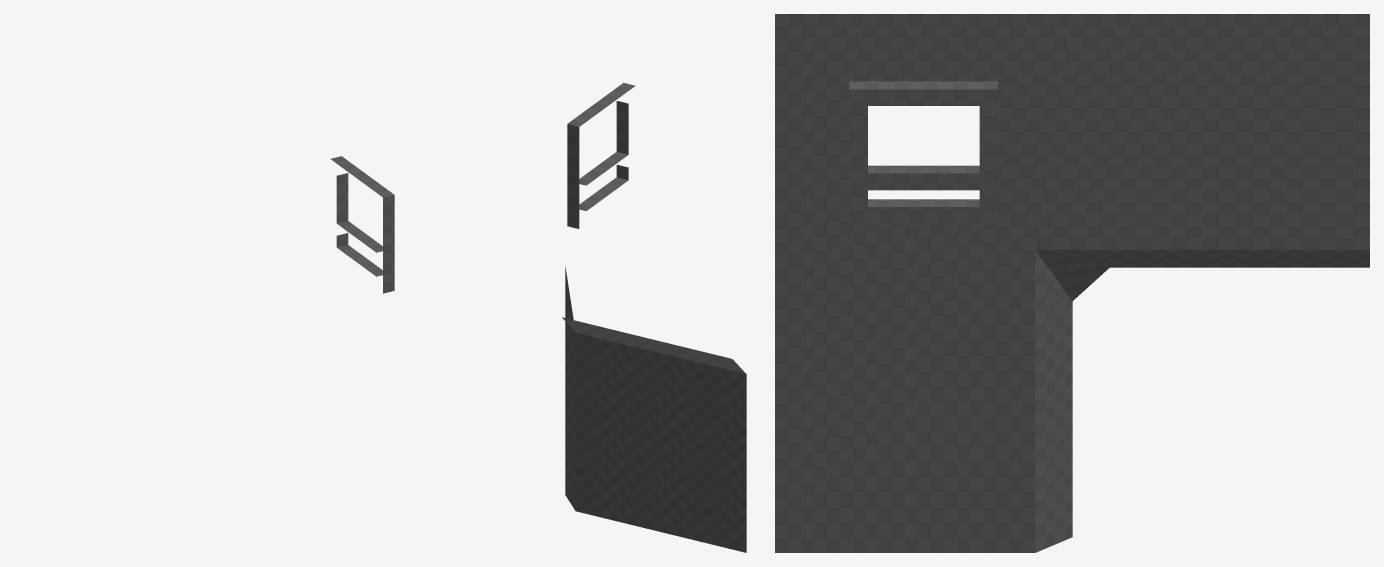
3 renders of one model, left to right at view 1: azimuth 30°, elevation 25°; view 2: azimuth 150°, elevation 25°; view 3: azimuth 270°, elevation 25°, orthographic. The views are drawn at different scales.
Parts seen in each view (by area): view 1: CubeDownBackRight4V1; view 2: CubeDownBackRight4V1; view 3: CubeDownBackRight4V1.
Boxes of the visible parts, <box> form: CubeDownBackRight4V1: <box>330,156,394,293</box>; CubeDownBackRight4V1: <box>562,82,746,552</box>; CubeDownBackRight4V1: <box>775,14,1369,552</box>.
Bounding box in the file's own units: 2.12 × 4 × 4.
1 material, 1 textured.
